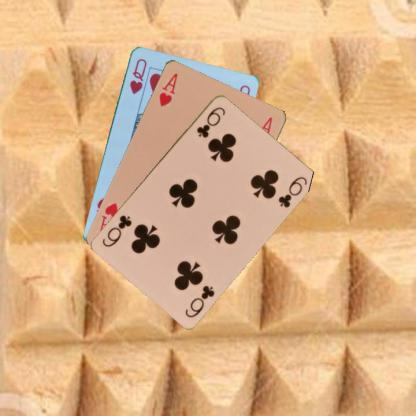6c: (182, 282, 216, 319), (194, 104, 227, 139)
Ah: (156, 70, 179, 107)
Qh: (126, 56, 148, 96)
